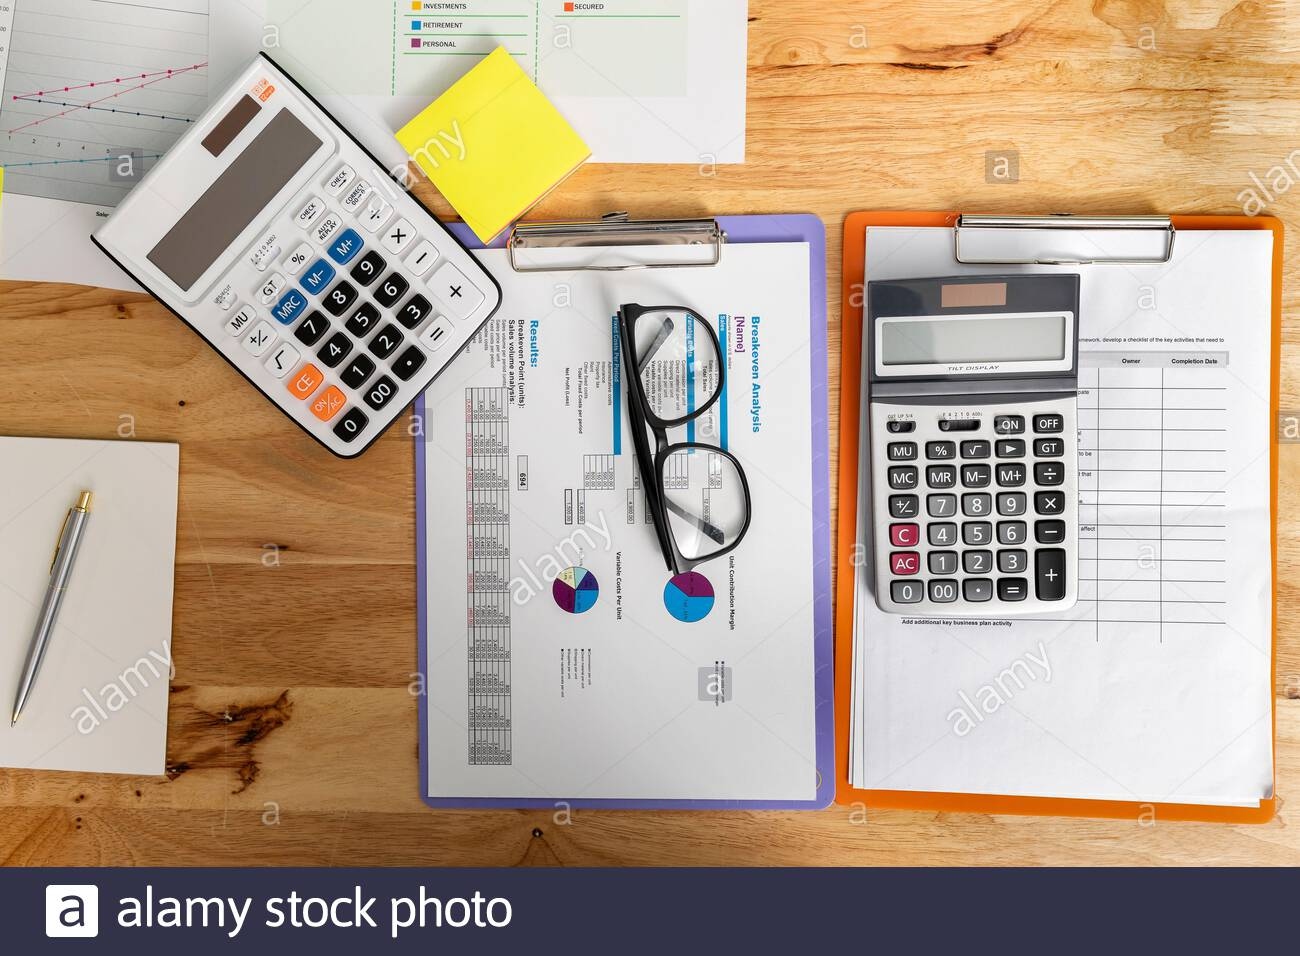Calculator: (95, 54, 503, 460), (860, 270, 1088, 625)
